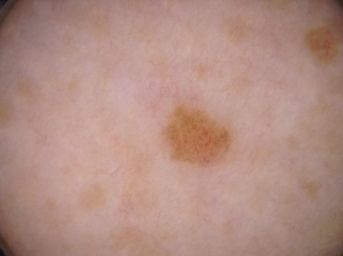melanoma: (164, 109, 227, 166), (305, 28, 340, 63)
